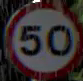Speed limit: (4, 1, 82, 79)
